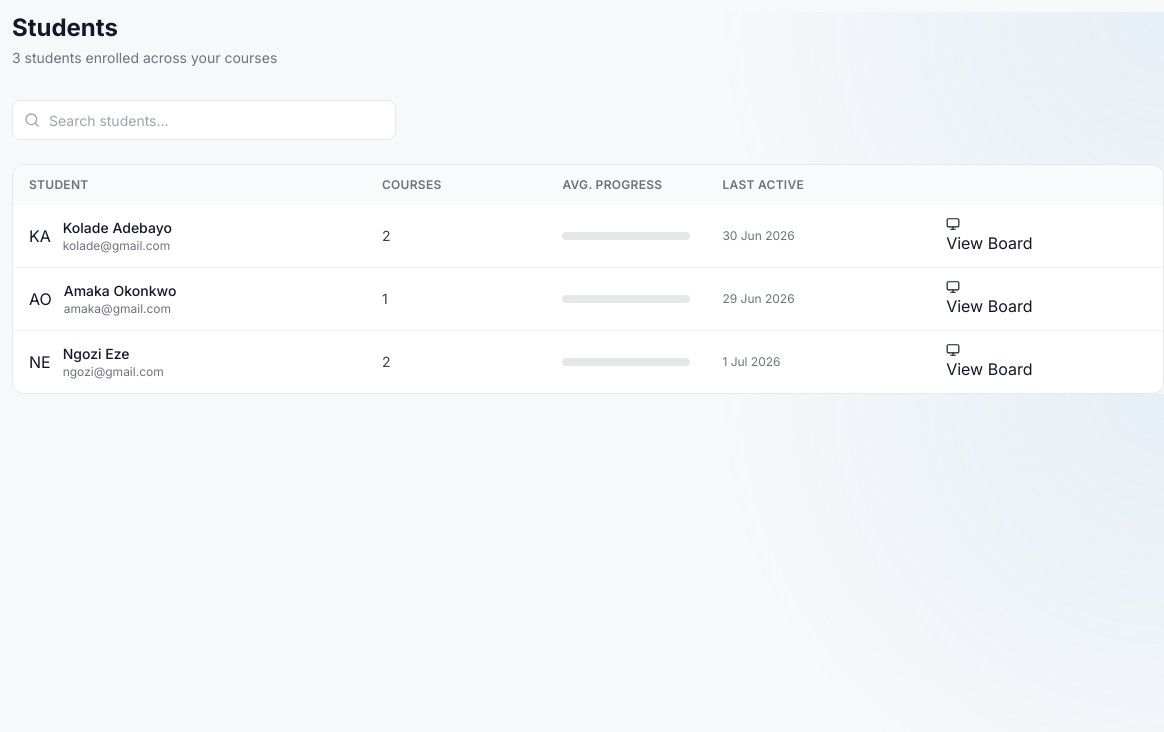
Test: TrainerStudentsPage › shows empty state when no match found
Expected: the text "Kolade Adebayo" is shown, [63,218,172,238]
Type "zzznomatch" into the field labelled "Search students…" at (204, 120), box [12,100,396,140]
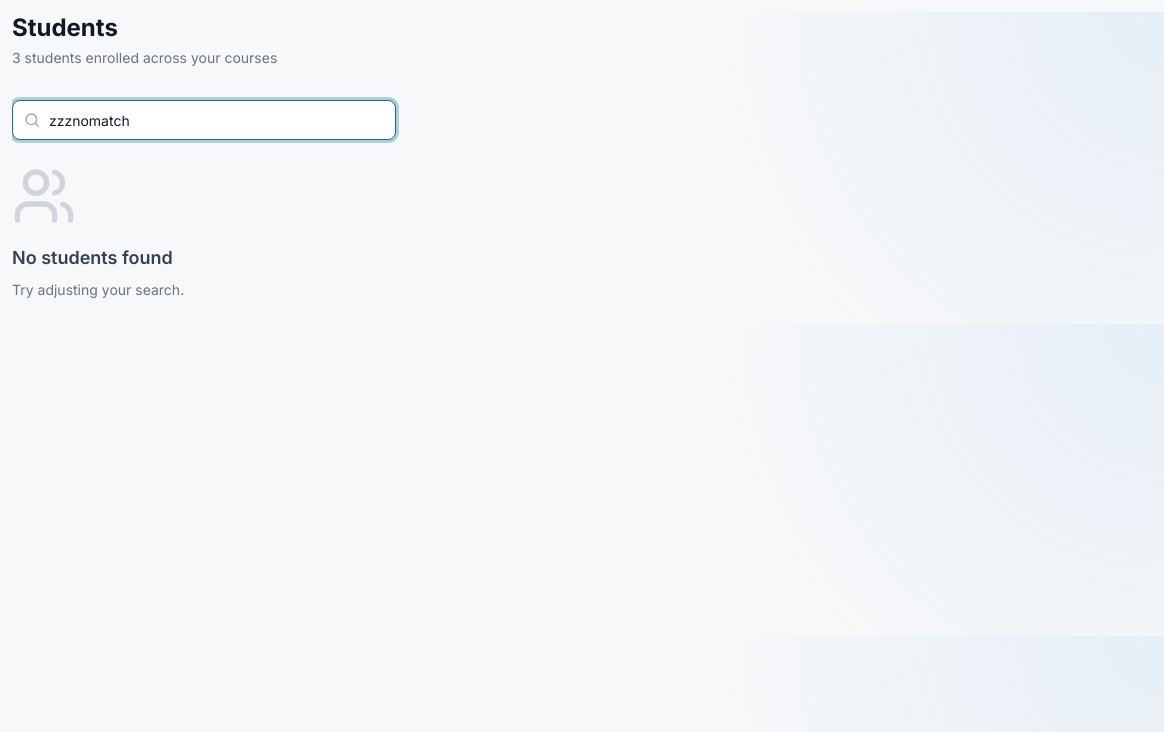
Expected: the heading "No students found" is shown, [12,247,173,268]
